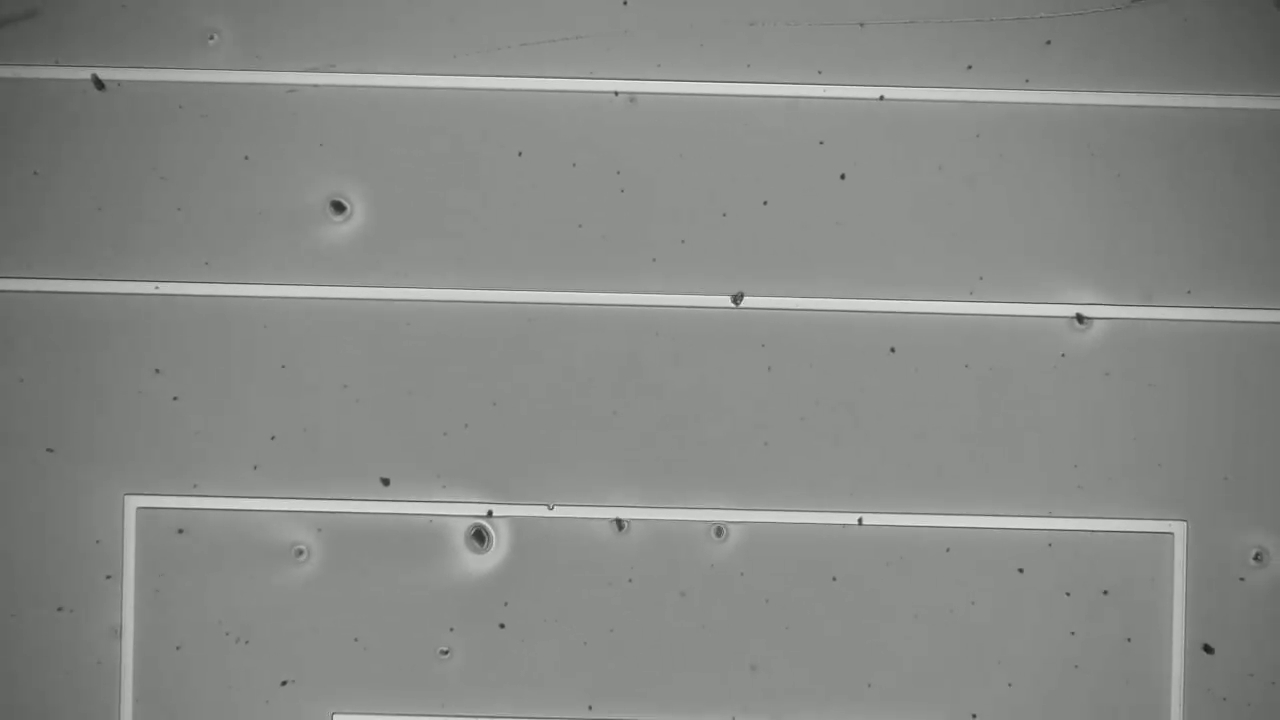edge_bite: (541, 495, 562, 525)
stains_enbedded: (1065, 295, 1099, 336), (83, 58, 113, 94), (725, 285, 751, 317), (480, 495, 500, 521), (854, 505, 868, 531)
